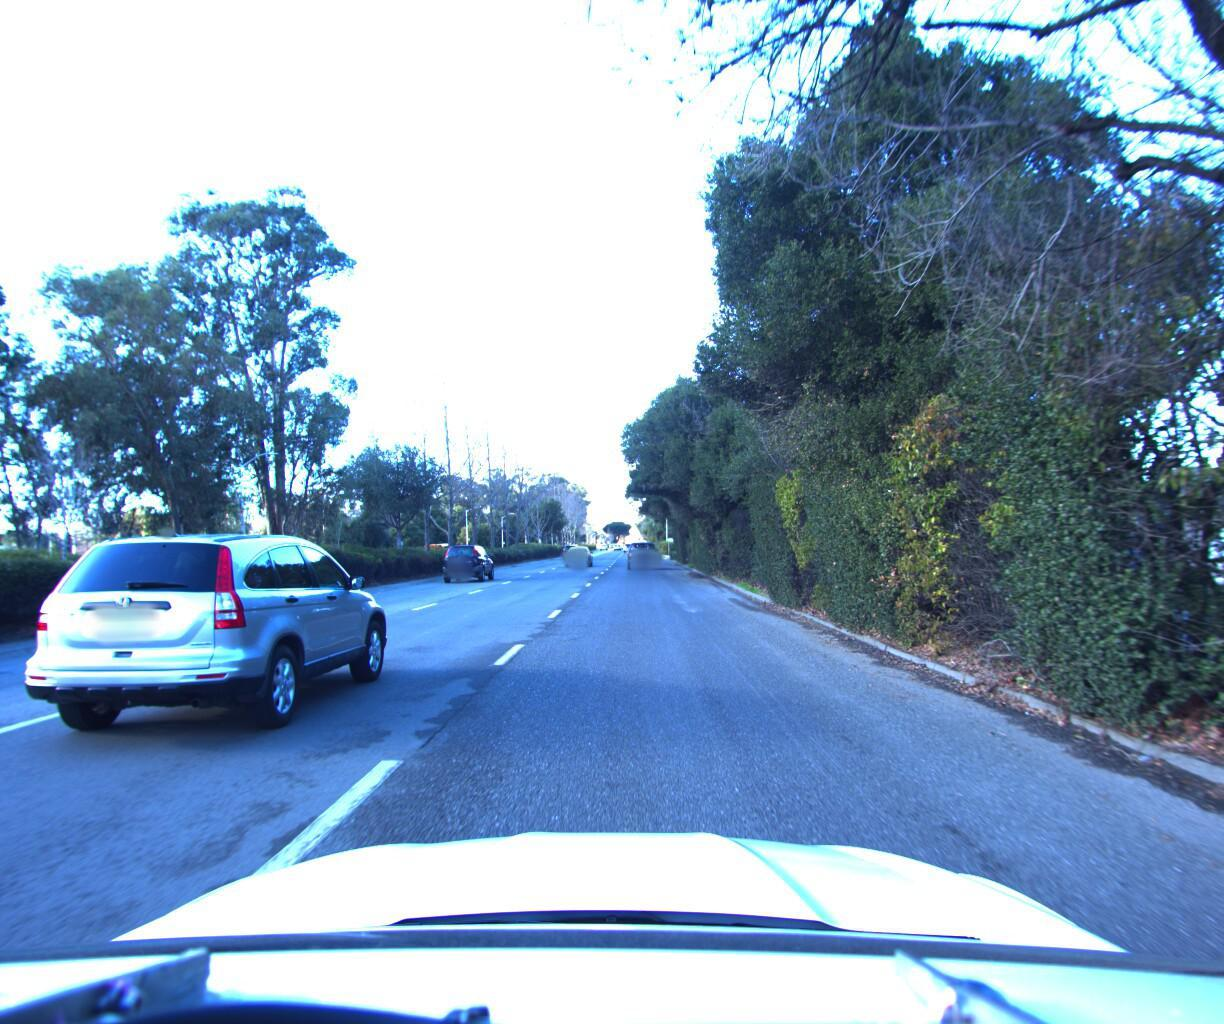car: (1, 517, 407, 760), (435, 533, 498, 580), (620, 535, 659, 566), (562, 540, 593, 563)
